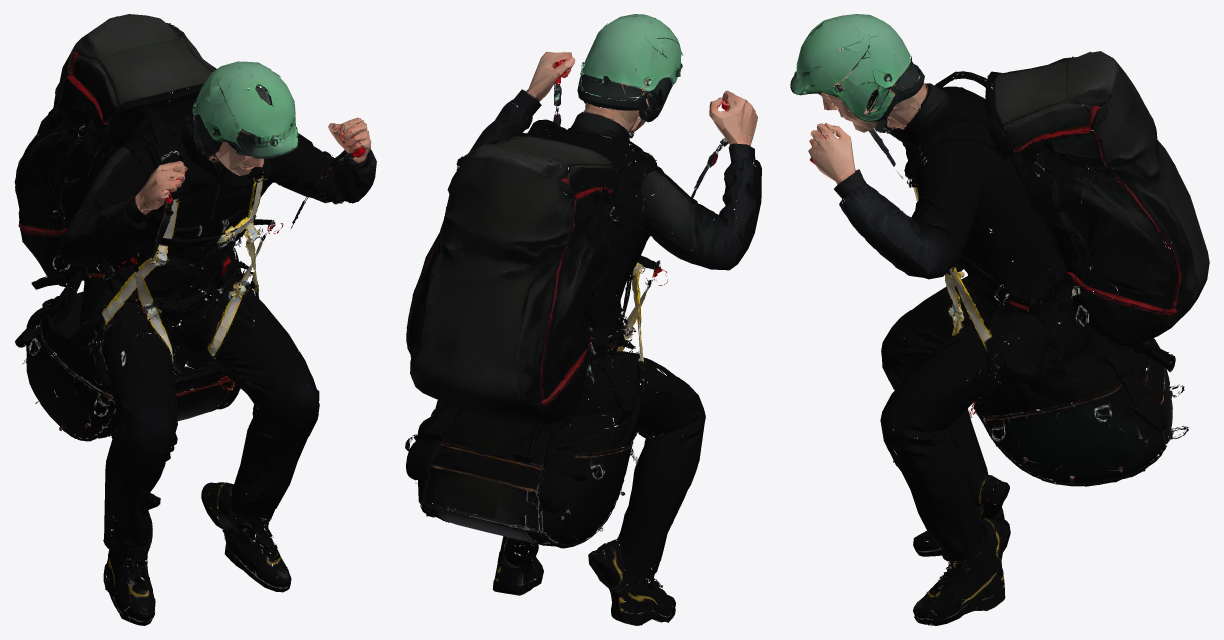
The model's file is person.fbx.
3 views of the same model, side by side, from view 1: azimuth 30°, elevation 25°; view 2: azimuth 150°, elevation 25°; view 3: azimuth 270°, elevation 25° (orthographic). The views are drawn at different scales.
Parts seen in each view (by area): view 1: model; view 2: model; view 3: model.
Boxes of the visible parts, <box> form: model: <box>14,14,376,625</box>; model: <box>405,14,761,625</box>; model: <box>790,14,1209,625</box>.
Bounding box in the file's own units: 0.9136 × 1.65 × 1.1.
1 material, 1 textured.
